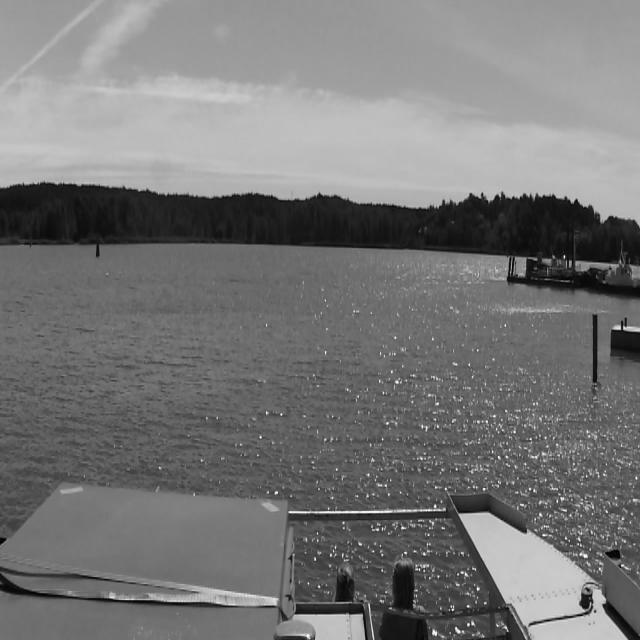ship: (592, 246, 637, 297)
